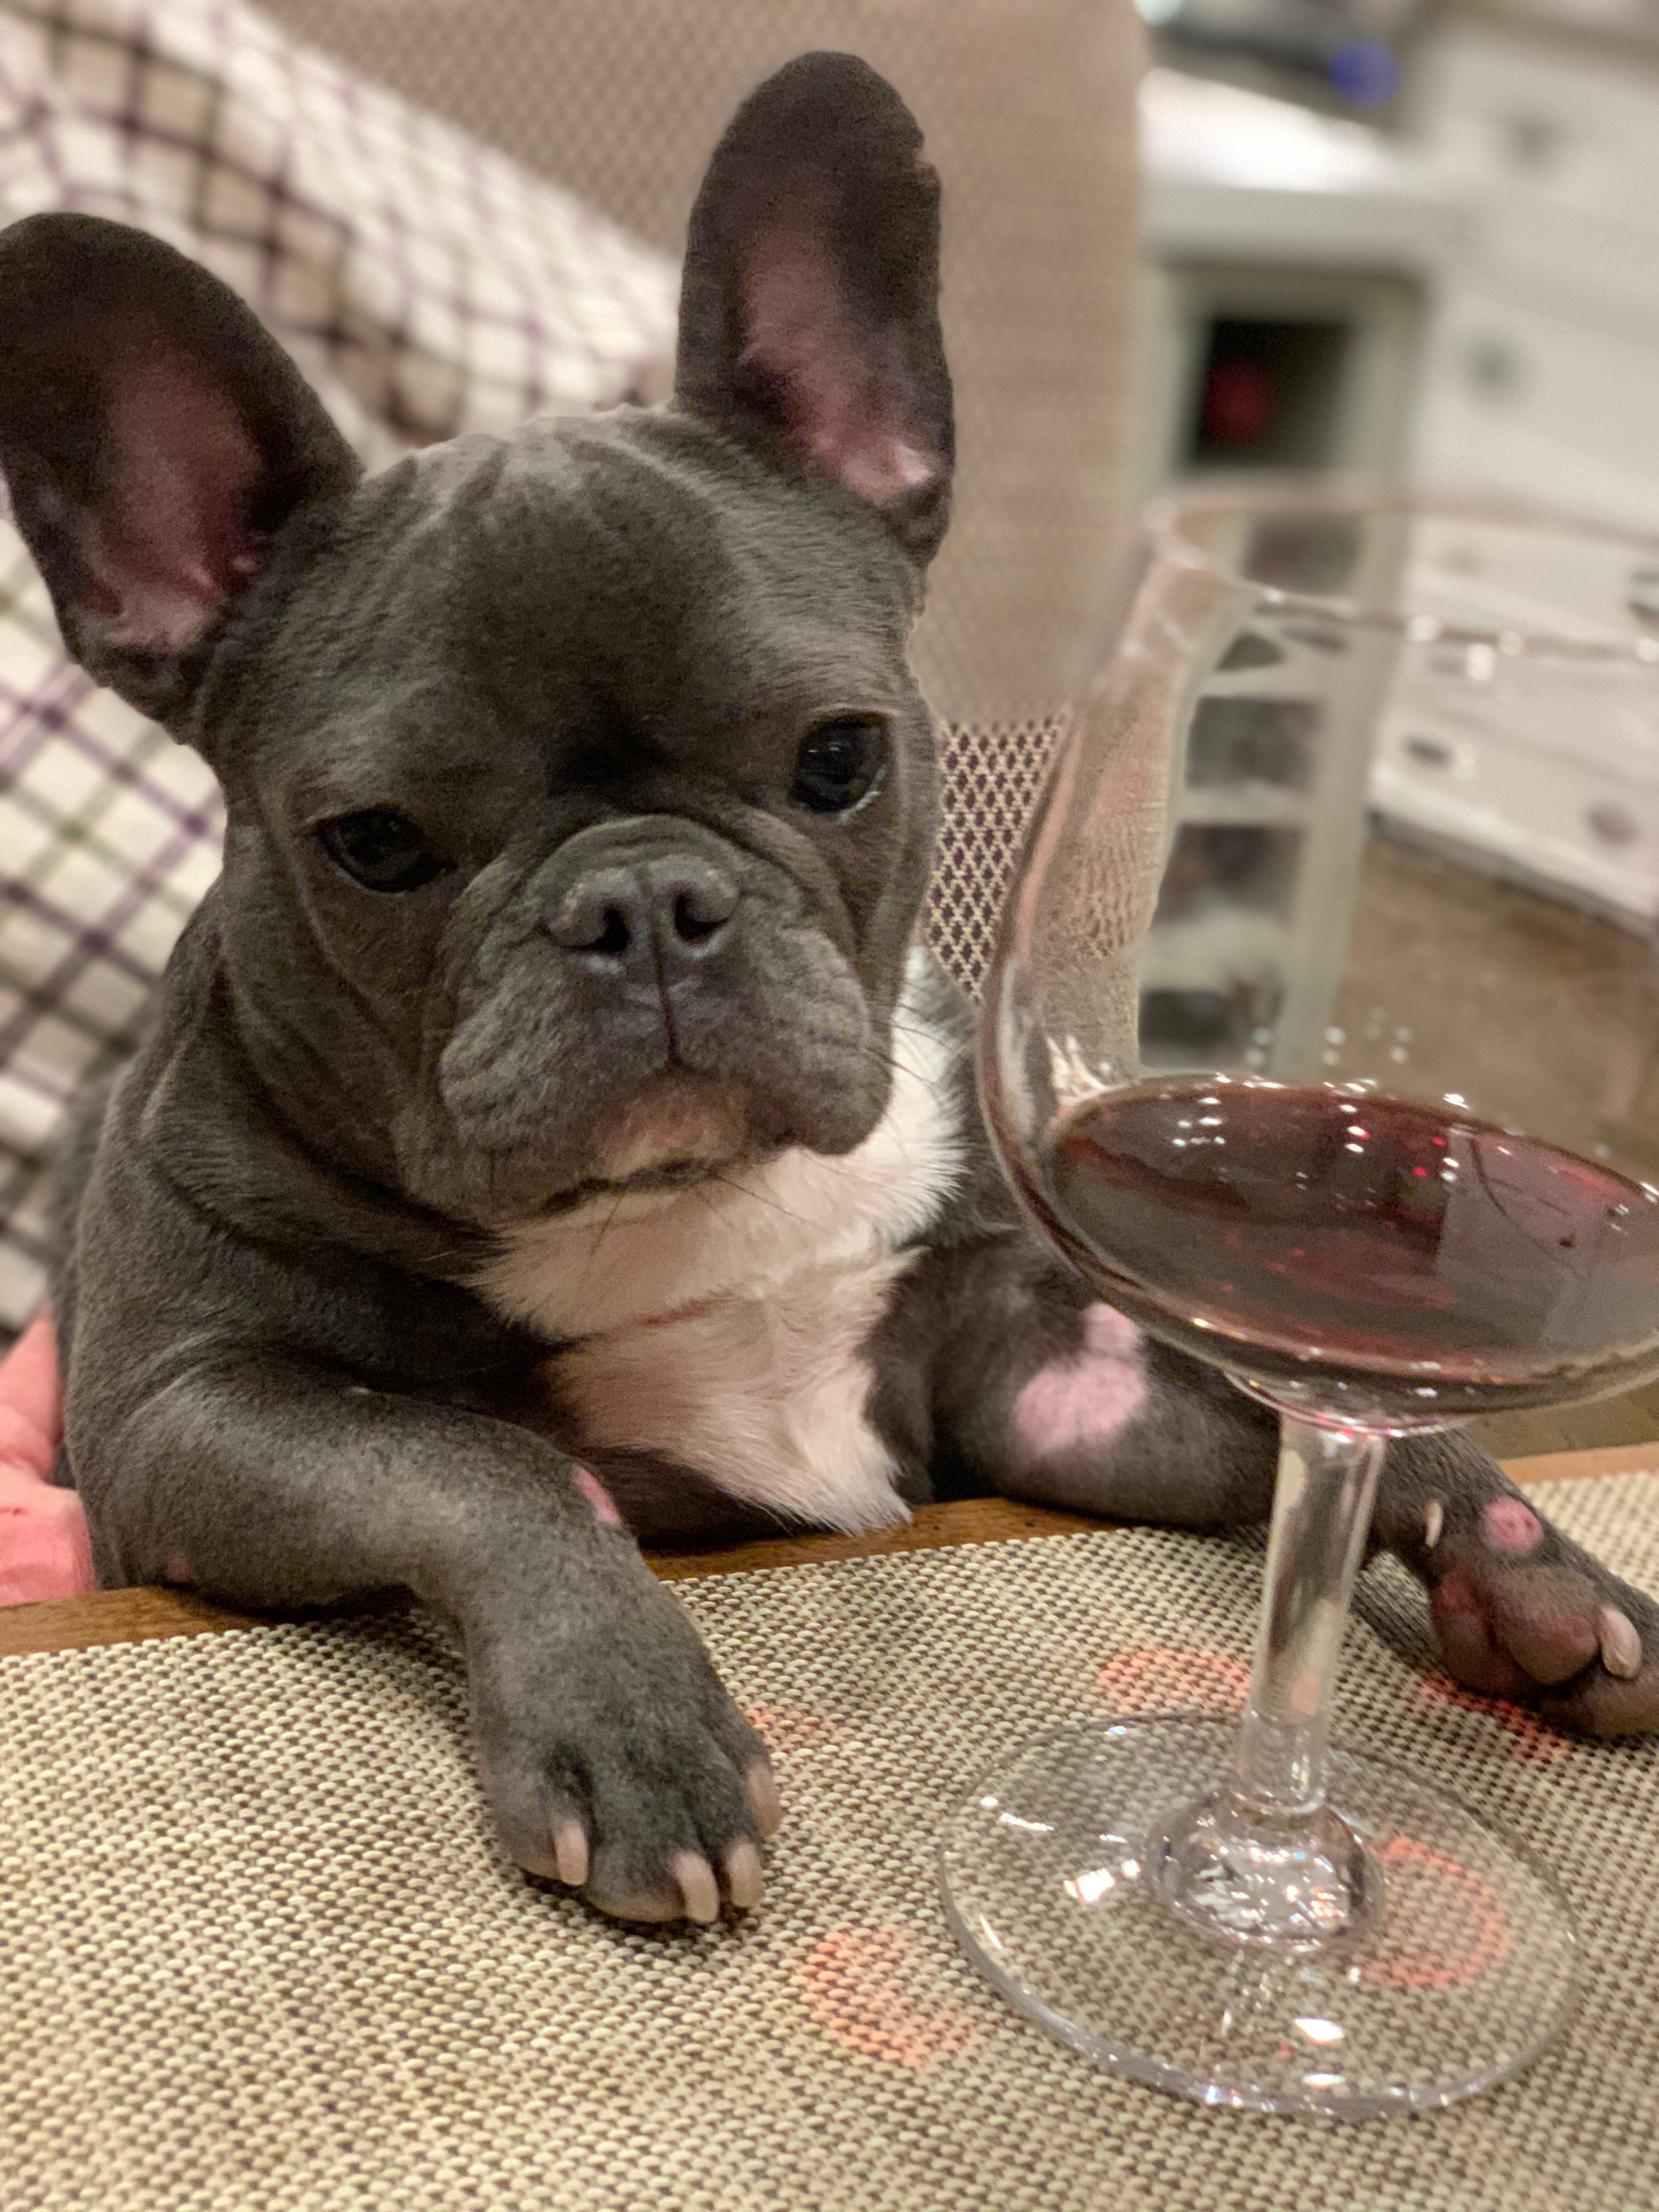lucy: (5, 42, 1656, 1952)
